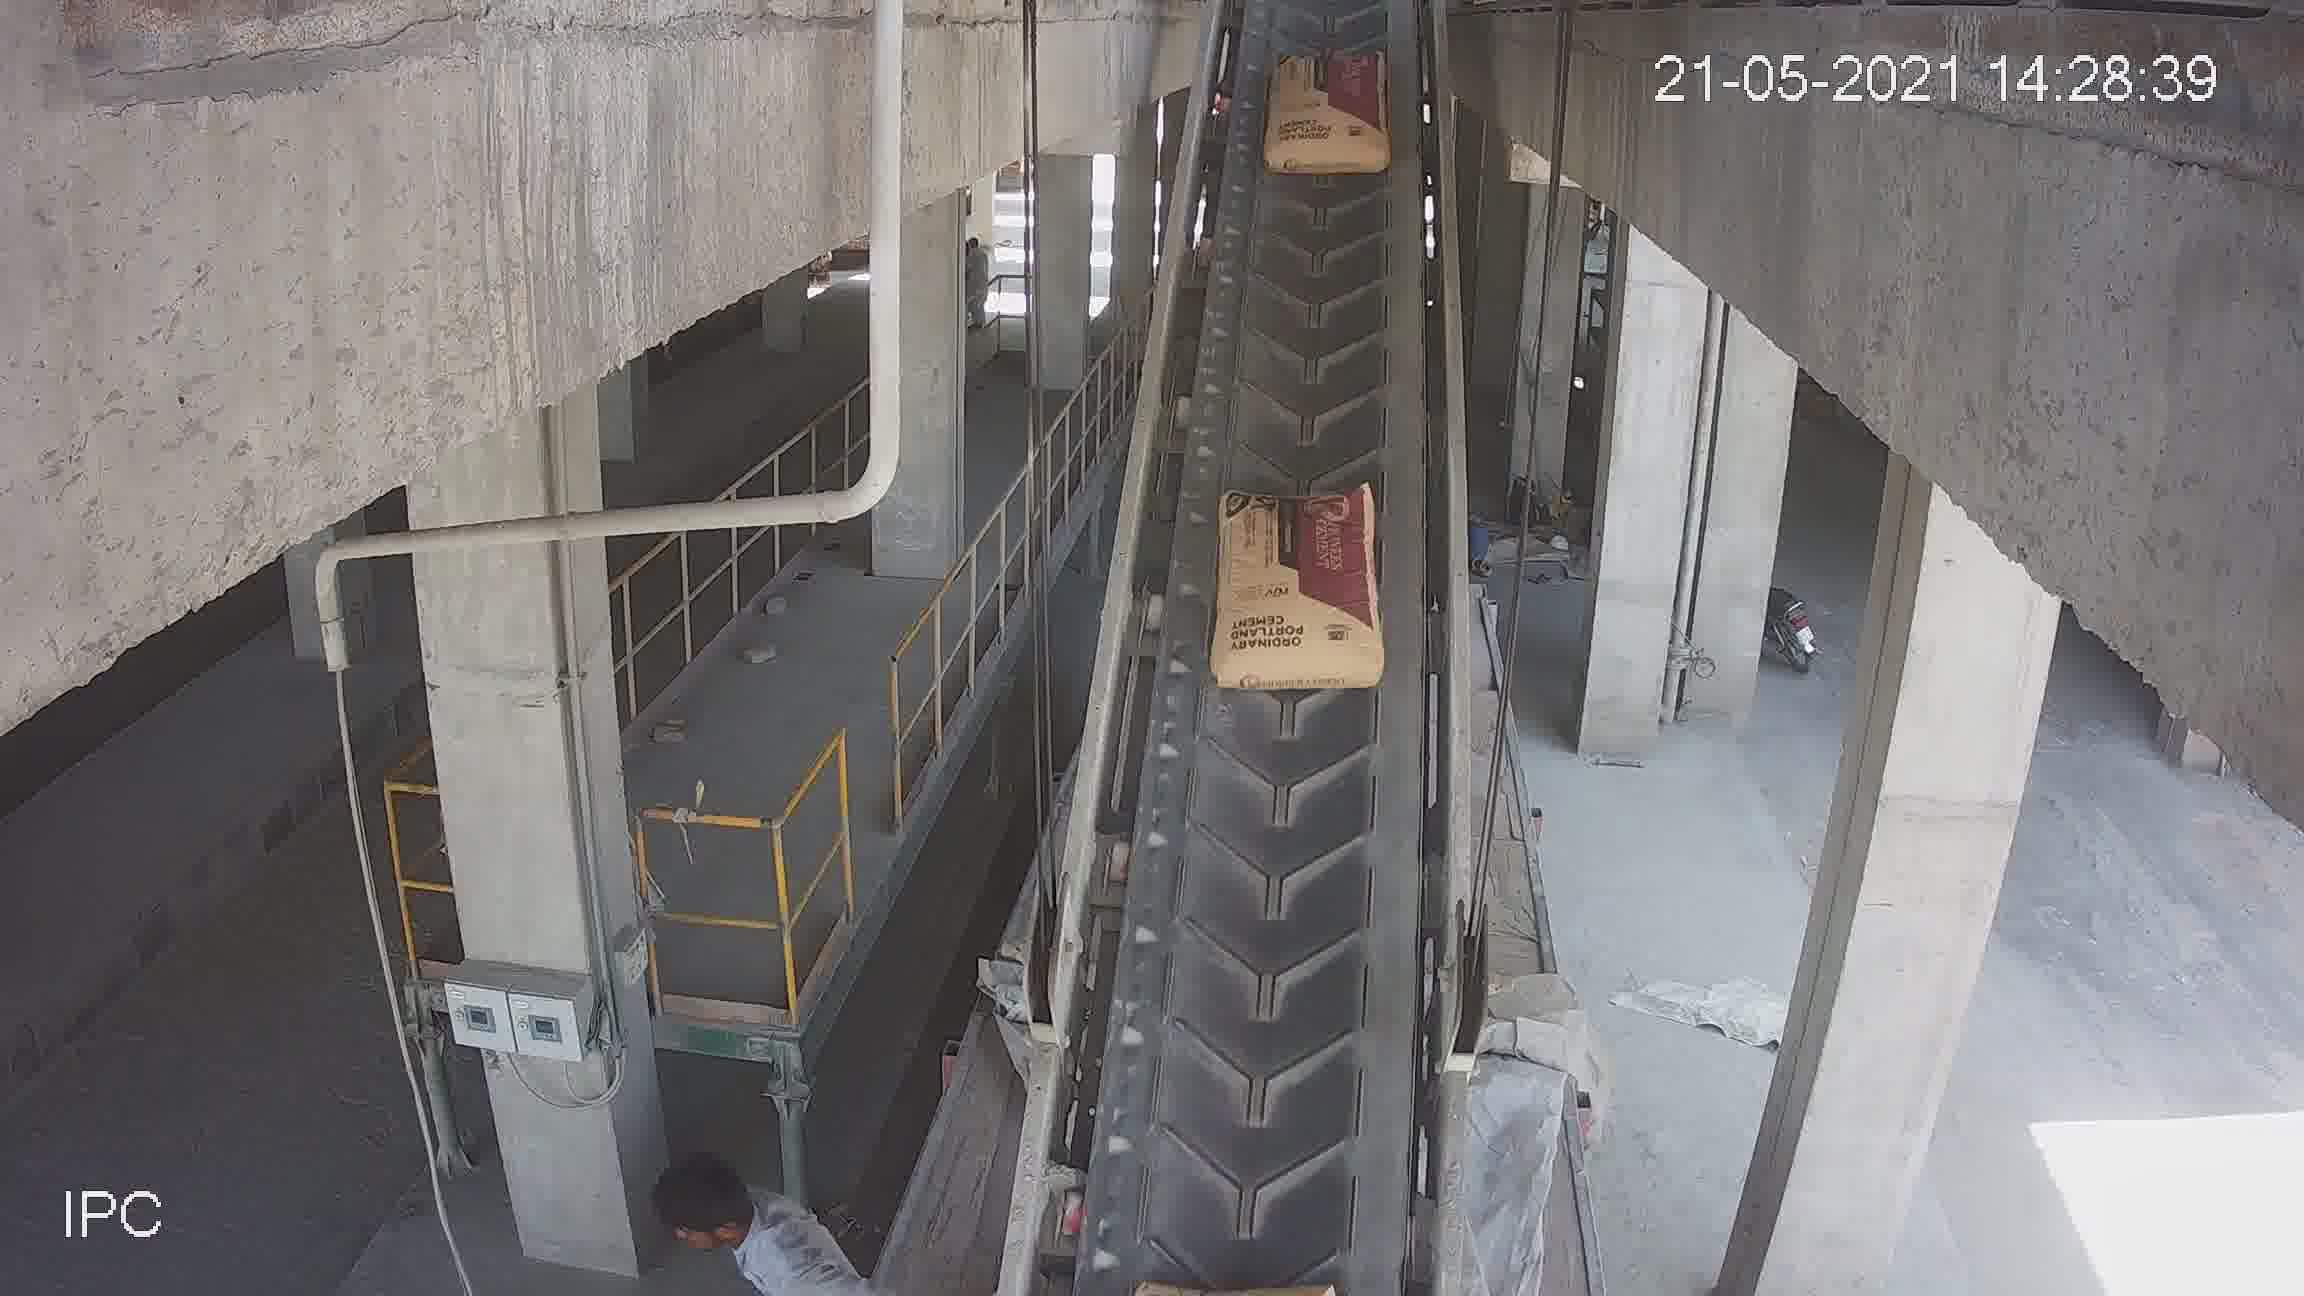bag: (1214, 489, 1380, 692), (1266, 57, 1389, 169)
belt: (1030, 32, 1465, 1263)
